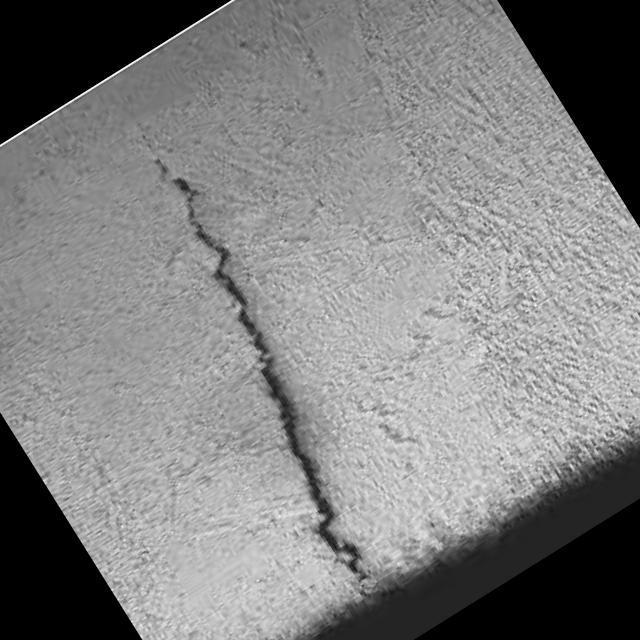defect: (160, 165, 375, 586)
